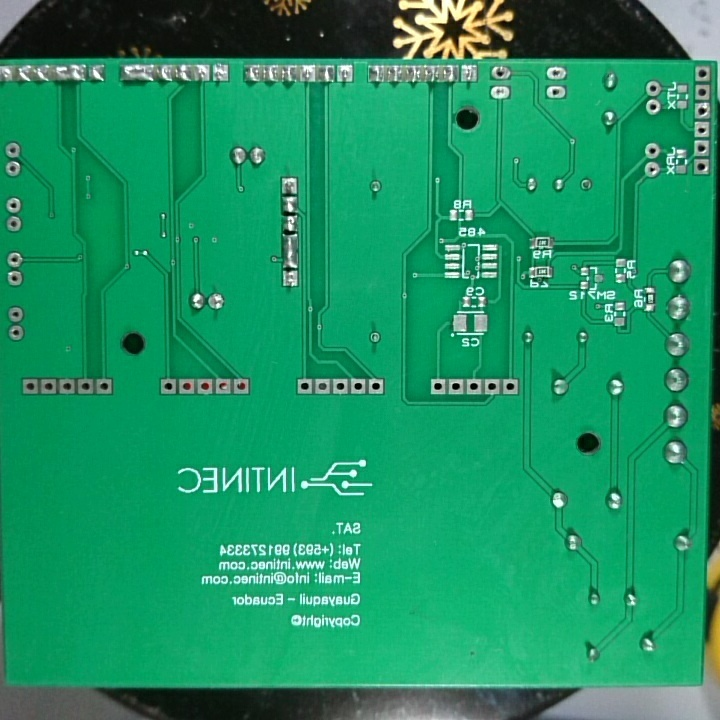F: (277, 174, 300, 198), (545, 63, 570, 83), (211, 60, 230, 86), (279, 270, 301, 292), (3, 158, 24, 180), (298, 63, 318, 86), (459, 61, 479, 84), (330, 375, 350, 398), (490, 64, 515, 82), (191, 60, 209, 85), (488, 84, 514, 101), (313, 373, 330, 399), (693, 63, 713, 85), (231, 376, 251, 398), (21, 375, 41, 397), (5, 323, 27, 343), (5, 267, 27, 287), (694, 98, 713, 121), (502, 375, 521, 398), (367, 375, 386, 398), (545, 83, 570, 100), (336, 64, 356, 85), (578, 174, 598, 195), (4, 194, 24, 215), (207, 291, 227, 312), (57, 375, 76, 397), (93, 376, 113, 396), (4, 141, 24, 161), (482, 375, 501, 396), (693, 80, 711, 102), (428, 376, 446, 398), (367, 326, 384, 349), (76, 375, 93, 398), (693, 120, 713, 139), (693, 138, 712, 158), (294, 375, 313, 395), (693, 157, 711, 178), (159, 376, 176, 398), (39, 377, 56, 399), (5, 250, 24, 269), (5, 213, 24, 232), (447, 377, 465, 397), (645, 97, 662, 118), (465, 378, 482, 399), (348, 376, 365, 397), (1, 64, 17, 86), (4, 305, 26, 321), (215, 375, 230, 398), (644, 140, 662, 159), (176, 377, 194, 396), (196, 377, 213, 397), (645, 79, 664, 96), (644, 159, 661, 178)
P: (118, 61, 158, 86), (50, 63, 87, 86), (281, 230, 301, 271)
